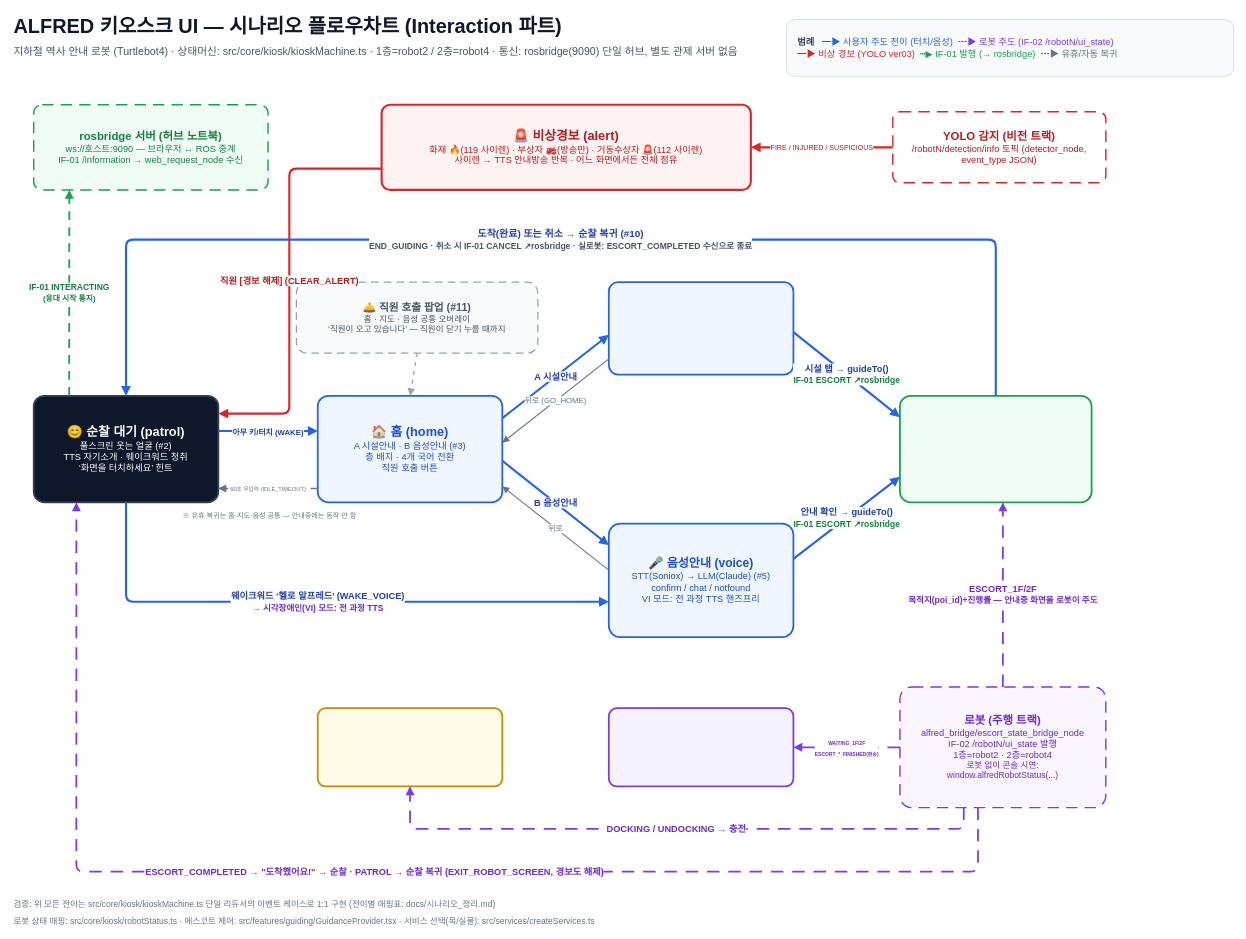
Image size: 1246x939. Some labels were removed from this diagram. The shapes that lost their labels are listed below. From the top down, each one's centre as x and y in pixels, then its label:
At (x=701, y=328): "🗺️ 시설안내 (map) 건설도면 + 시설 리스트 (#4) 층 탭 → 타층 시설(환승 #6)".
At (x=995, y=449): "🚶 안내중 (guiding) 웃는 얼굴 + ‘시설 안내중’ (#7) 진행바 · ‘준비 중’ → 진행 로컬 안내만 취소 가능".
At (x=410, y=747): "🔋 충전중 (charging) DOCKING / UNDOCKING 배터리 % 표시".
At (x=701, y=747): "⏳ 대기/환승 (waiting) WAITING_*: 사용자 대기 환승: ‘N층으로 이동하세요’ (#6)".
